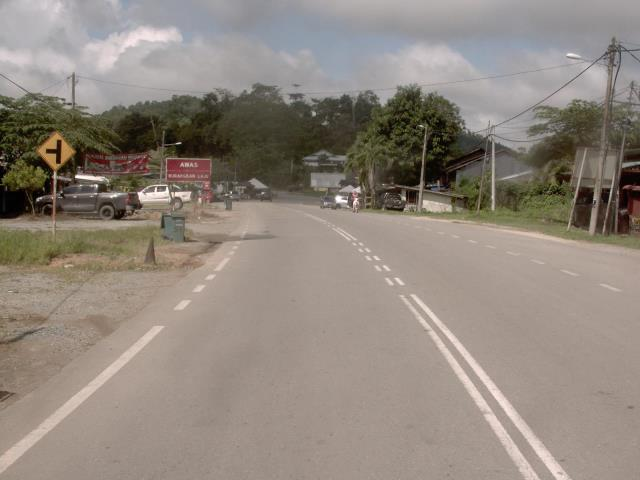traffic_sign: (30, 126, 79, 176)
